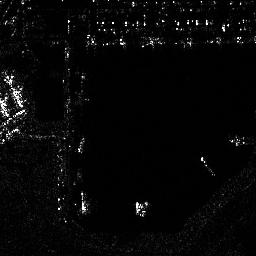l: (141, 34, 195, 49), (84, 34, 128, 49), (198, 154, 220, 179), (202, 34, 243, 46)
